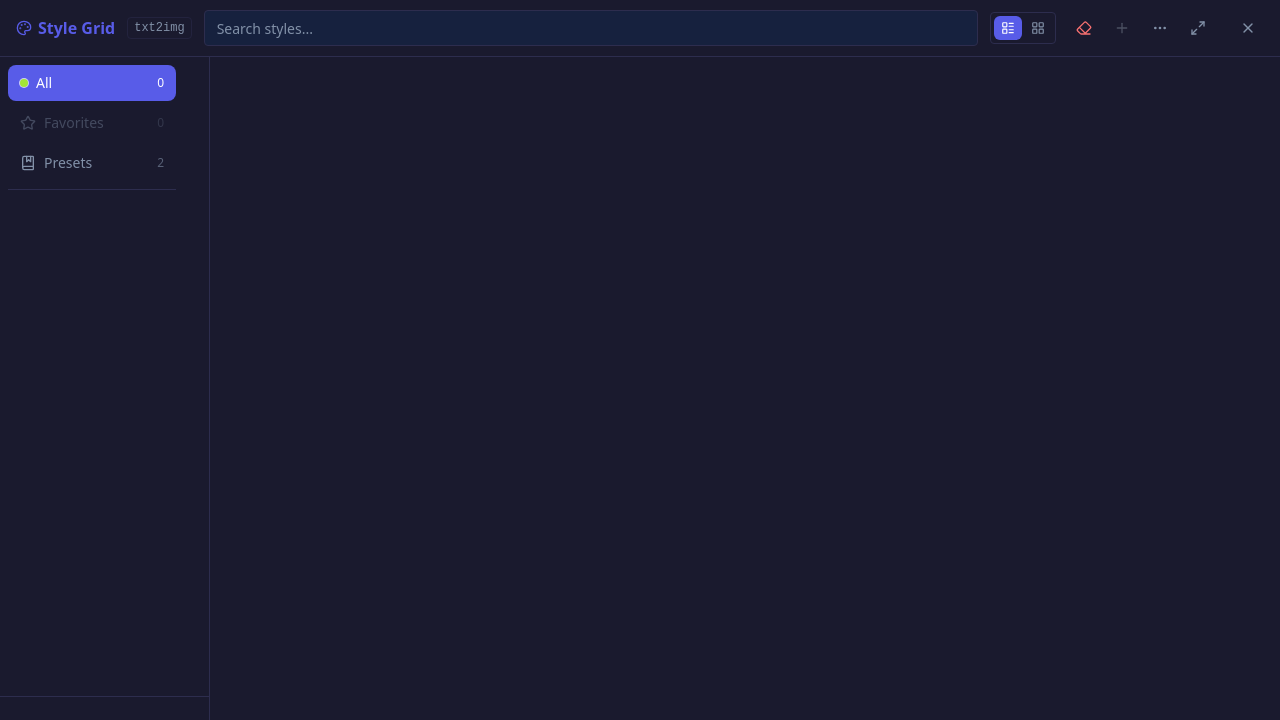
Test: one-row header › menu item 0 opens the "Import / Export" dialog and closes the menu
Click the button named "More".
click(1160, 28)  # box [1144,12,1176,44]
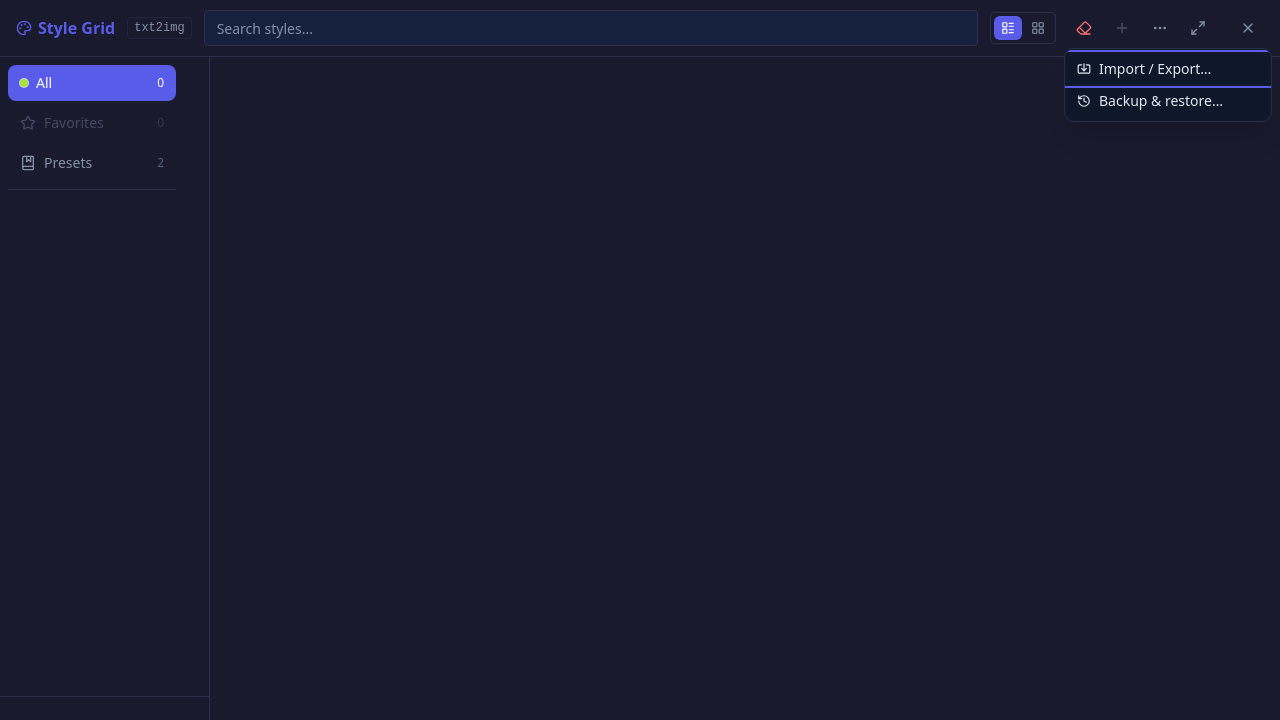
Click the menu item "Import / Export…".
click(1168, 69)  # box [1065,53,1271,85]
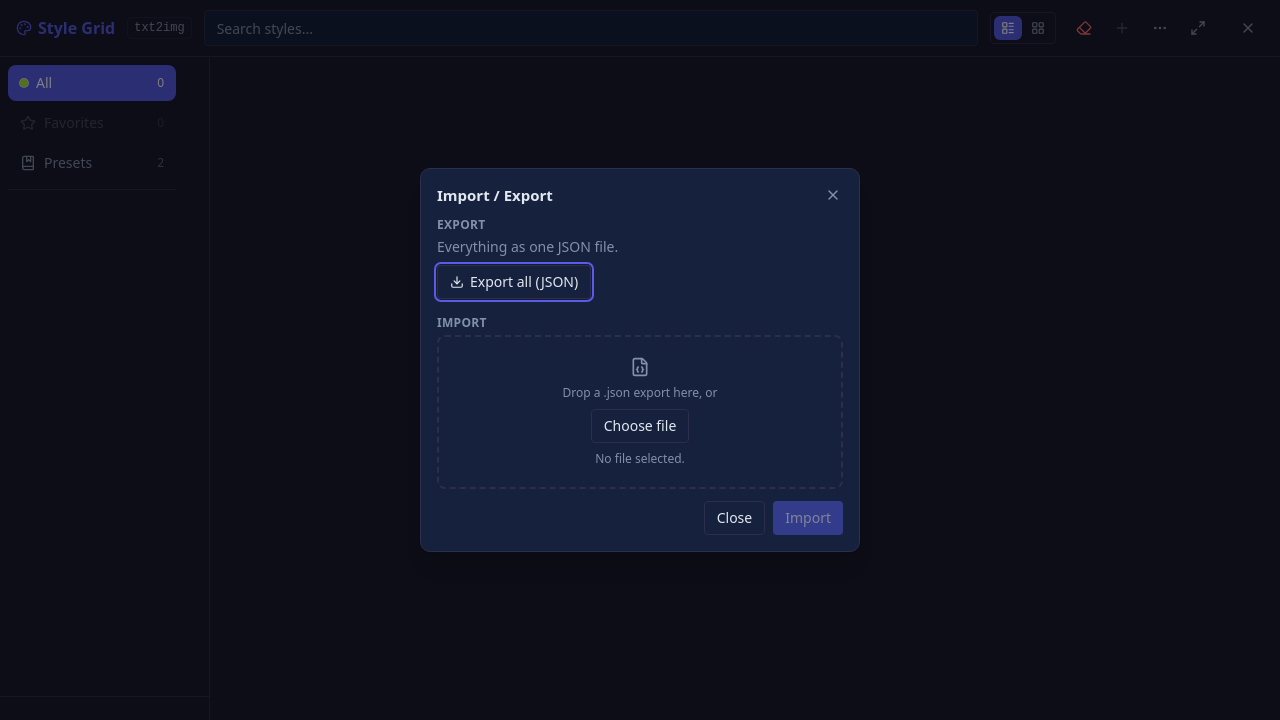
Check: the text "Import / Export" is shown, box [437,184,553,206]
Check: the menu is gone
